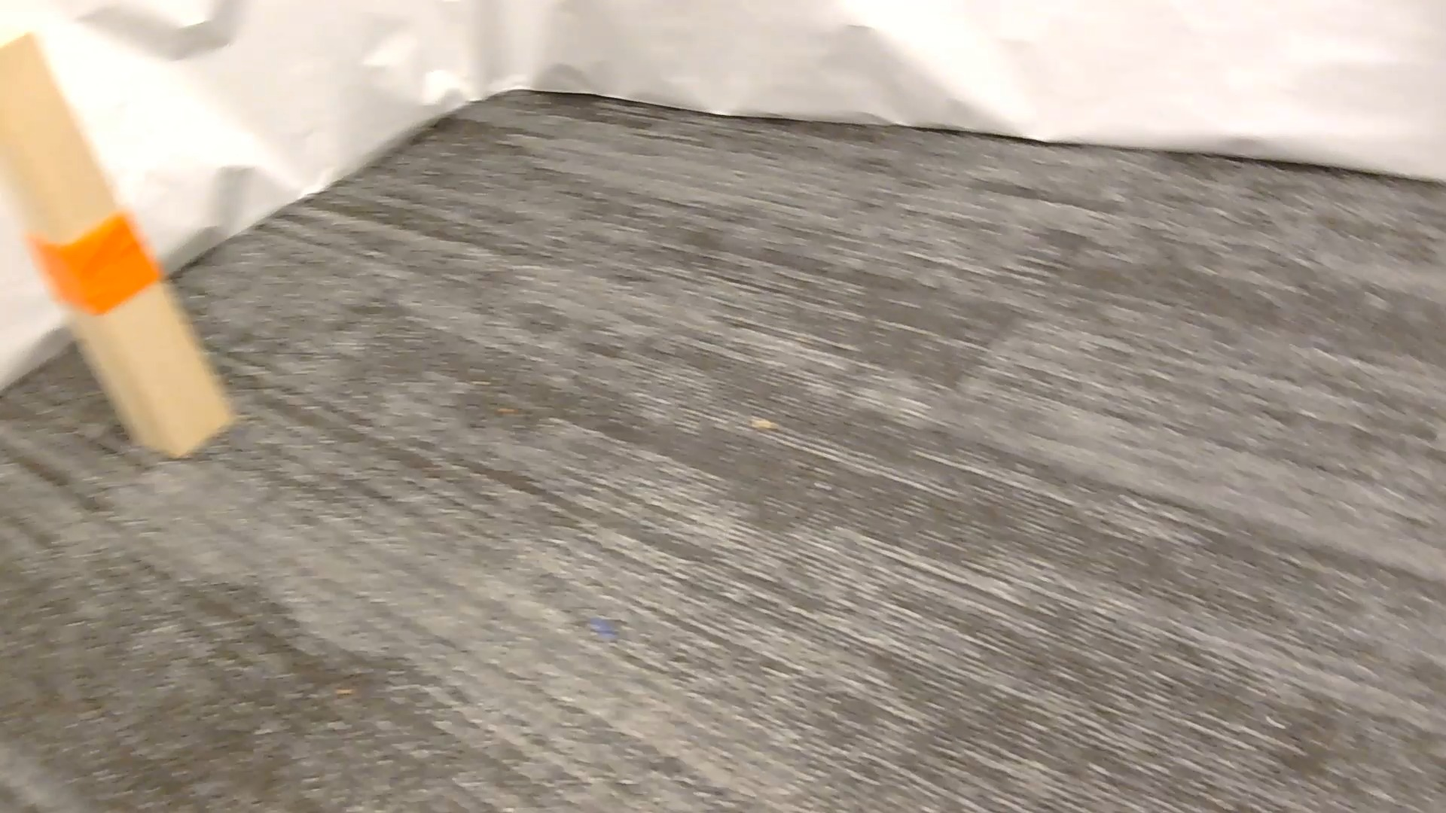Wooden Block: (0, 33, 233, 457)
